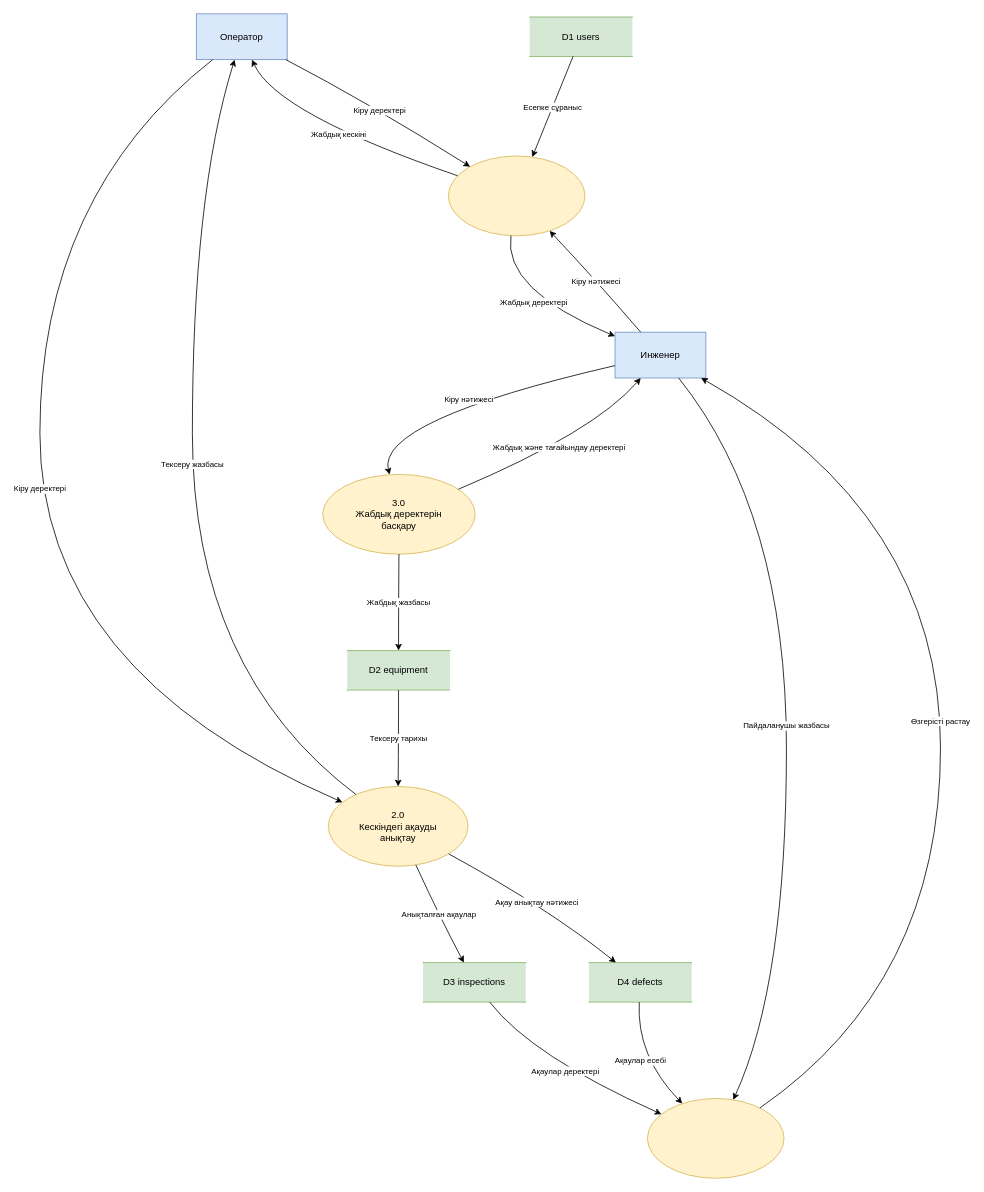
Some shapes in this 984 by 1192 pixel diagram are drawn without their labels. The shapes that lost their labels are listed below. From the top down, each one's centre as x and y in pixels, then its label:
At pixel 516 195: "1.0 Пайдаланушыны авторизациялау".
At pixel 715 1138: "4.0 Ақаулар есебін қалыптастыру".
